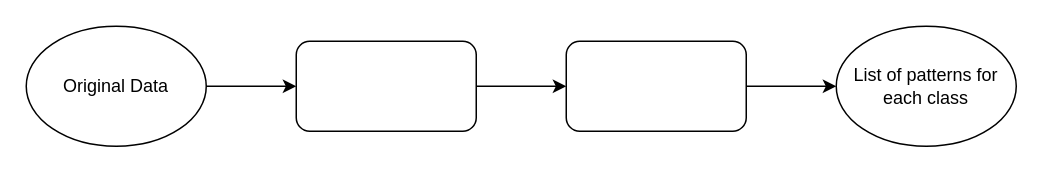
This 1043x173 diagram has some shape labels left out. Here are the shapes that lost their labels. From the top down, the centre of each, then its label:
At (x=385, y=85): "Binarization".
At (x=655, y=85): "Class-wise Pattern Generation".
